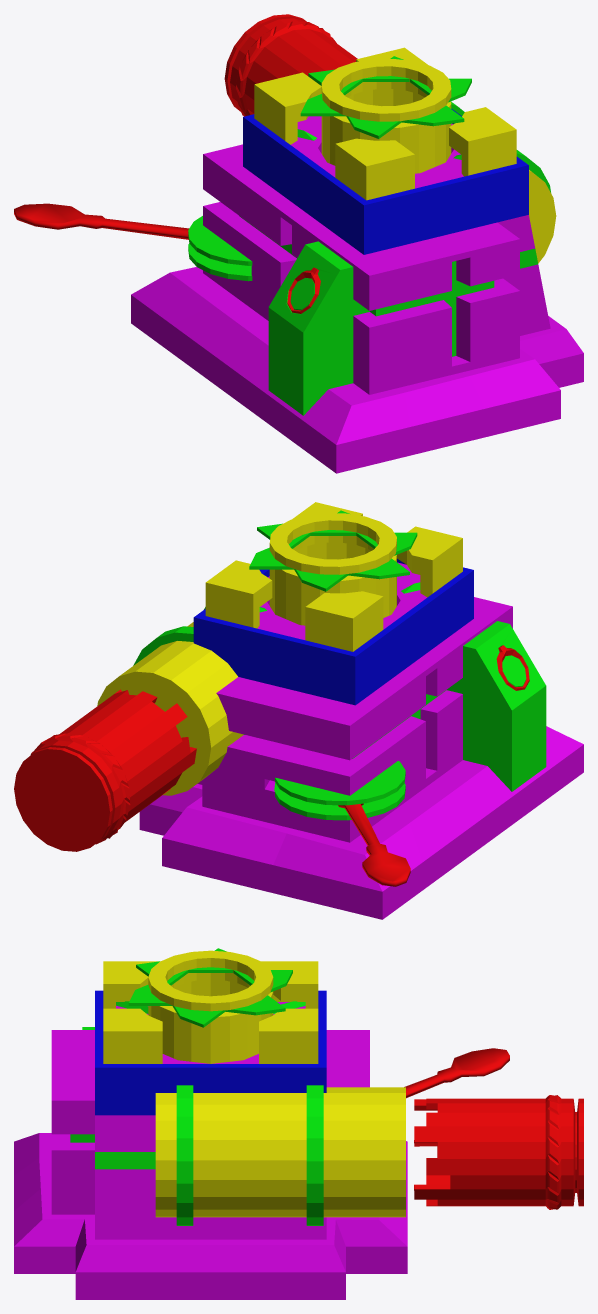
The model's file is 3-Key_Lock.fbx.
3 renders of one model, top to bottom at view 1: azimuth 30°, elevation 25°; view 2: azimuth 150°, elevation 25°; view 3: azimuth 270°, elevation 25°, orthographic. The views are drawn at different scales.
Parts seen in each view (by area): view 1: mesh_lock_lock, mesh_lock_shell, mesh_lock_spoon; view 2: mesh_lock_lock, mesh_lock_shell, mesh_lock_spoon, mesh_lock_ring; view 3: mesh_lock_lock, mesh_lock_shell, mesh_lock_spoon.
Part boxes in pixels (x1,y1,x2,y2): mesh_lock_lock: [131, 47, 583, 473]; mesh_lock_shell: [224, 14, 357, 116]; mesh_lock_spoon: [14, 203, 188, 239]; mesh_lock_lock: [97, 502, 583, 919]; mesh_lock_shell: [14, 689, 196, 851]; mesh_lock_spoon: [338, 803, 410, 886]; mesh_lock_ring: [496, 645, 529, 690]; mesh_lock_lock: [14, 948, 407, 1299]; mesh_lock_shell: [414, 1095, 583, 1209]; mesh_lock_spoon: [404, 1048, 509, 1098].
Size of the model in its own units: 492 by 349 by 684.
